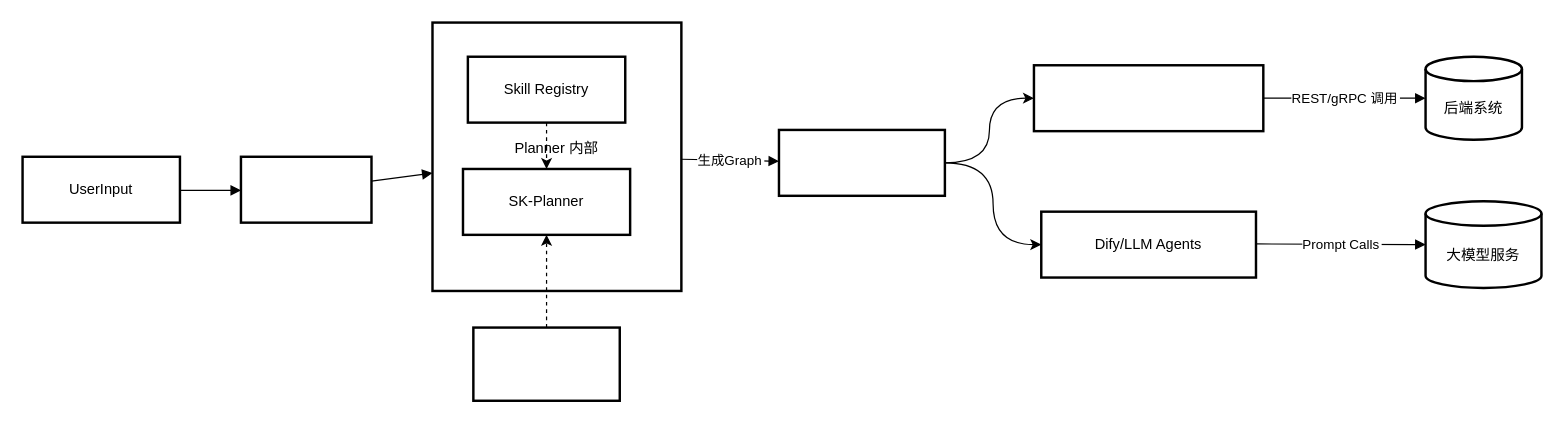
Image size: 1563x422. Some labels were removed from this diagram. Here are the shapes that lost their labels. From the top down, the box of each, then its label:
(1032, 63, 1264, 132): API Adapter Layer
(777, 128, 946, 196): Executor （LangGraph）
(239, 155, 372, 223): Router
(472, 326, 620, 401): memory
